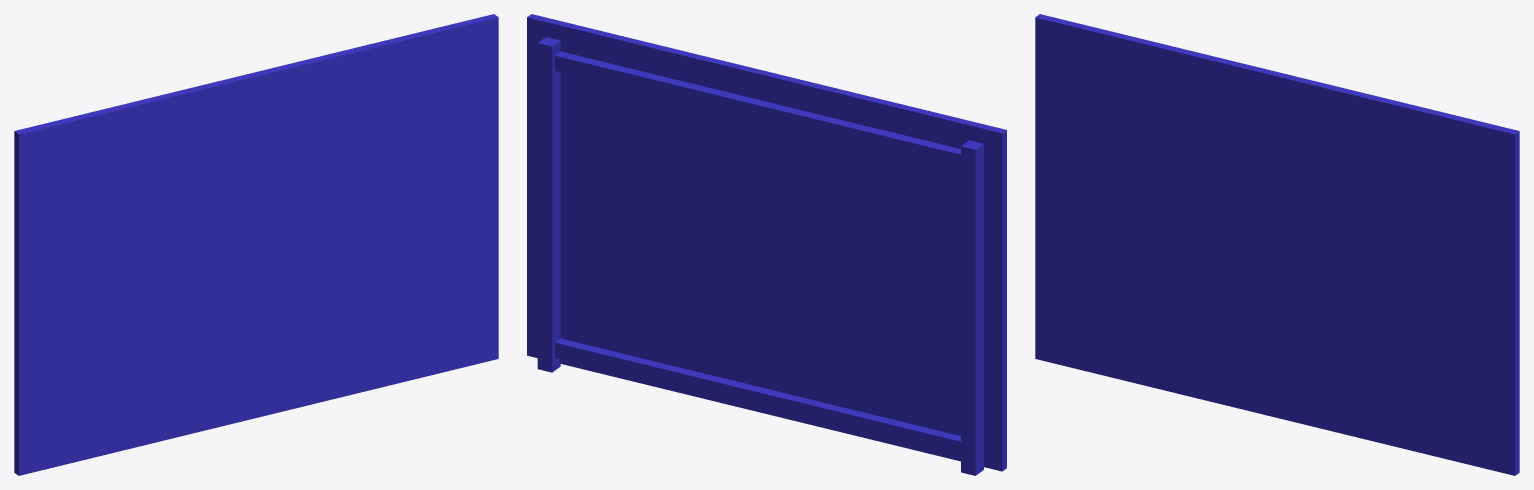
File: Fence.fbx
The picture shows the model from 3 angles, left to right: view 1: azimuth 30°, elevation 25°; view 2: azimuth 150°, elevation 25°; view 3: azimuth 330°, elevation 25°; orthographic projection.
Visible parts, largest first — view 1: Fence; view 2: Fence; view 3: Fence.
Boxes of the visible parts, x1,y1,x2,y2 form: Fence: (14, 14, 498, 475); Fence: (527, 14, 1006, 475); Fence: (1035, 14, 1519, 475).
Bounding box in the file's own units: 500 × 343 × 23.73.
